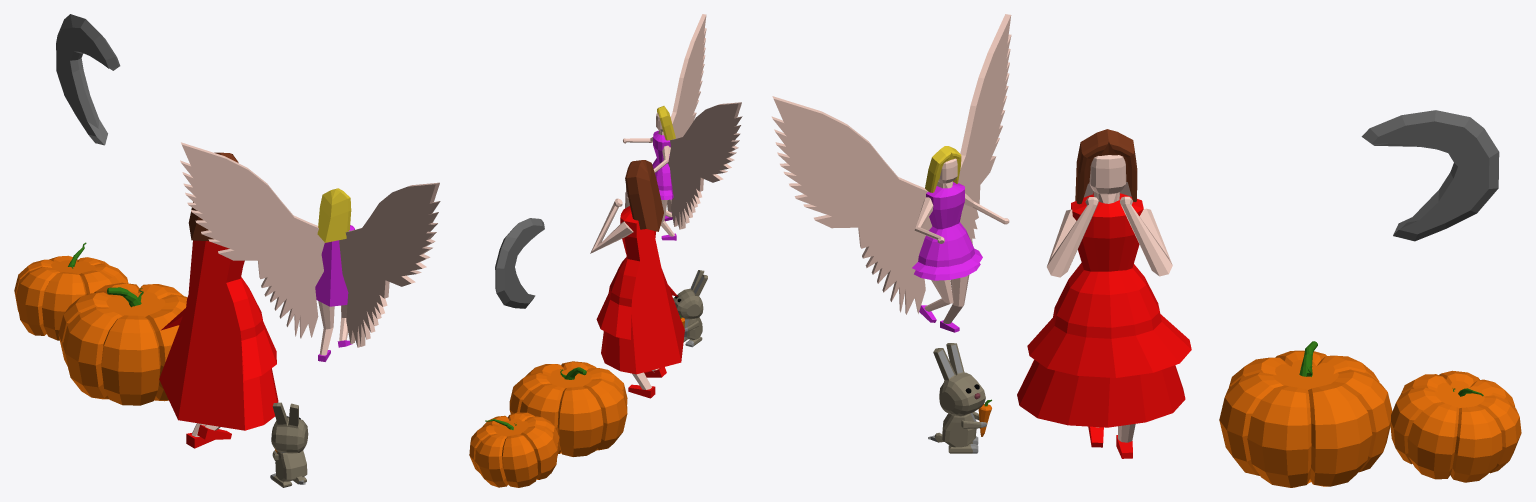
The model's file is sahne1.fbx.
3 renders of one model, left to right at view 1: azimuth 30°, elevation 25°; view 2: azimuth 150°, elevation 25°; view 3: azimuth 270°, elevation 25°, orthographic. The views are drawn at different scales.
Parts seen in each view (by area): view 1: peri, karakter.002, kabak1, kabak2, ay, tavsan; view 2: karakter.002, peri, kabak1, kabak2, ay, tavsan; view 3: karakter.002, peri, kabak1, kabak2, ay, tavsan.
Boxes of the visible parts, bbox=[...] form: peri: bbox=[180, 142, 440, 361]; karakter.002: bbox=[159, 152, 278, 448]; kabak1: bbox=[58, 282, 187, 405]; kabak2: bbox=[14, 242, 128, 340]; ay: bbox=[56, 14, 120, 145]; tavsan: bbox=[270, 402, 308, 487]; karakter.002: bbox=[590, 160, 684, 398]; peri: bbox=[623, 14, 742, 240]; kabak1: bbox=[509, 361, 627, 456]; kabak2: bbox=[469, 412, 559, 487]; ay: bbox=[495, 218, 544, 308]; tavsan: bbox=[673, 270, 707, 347]; karakter.002: bbox=[1017, 129, 1191, 458]; peri: bbox=[771, 14, 1011, 332]; kabak1: bbox=[1219, 341, 1392, 487]; kabak2: bbox=[1390, 370, 1521, 482]; ay: bbox=[1361, 110, 1499, 241]; tavsan: bbox=[928, 343, 986, 453].
Size of the model in its own units: 112 by 212 by 357.
